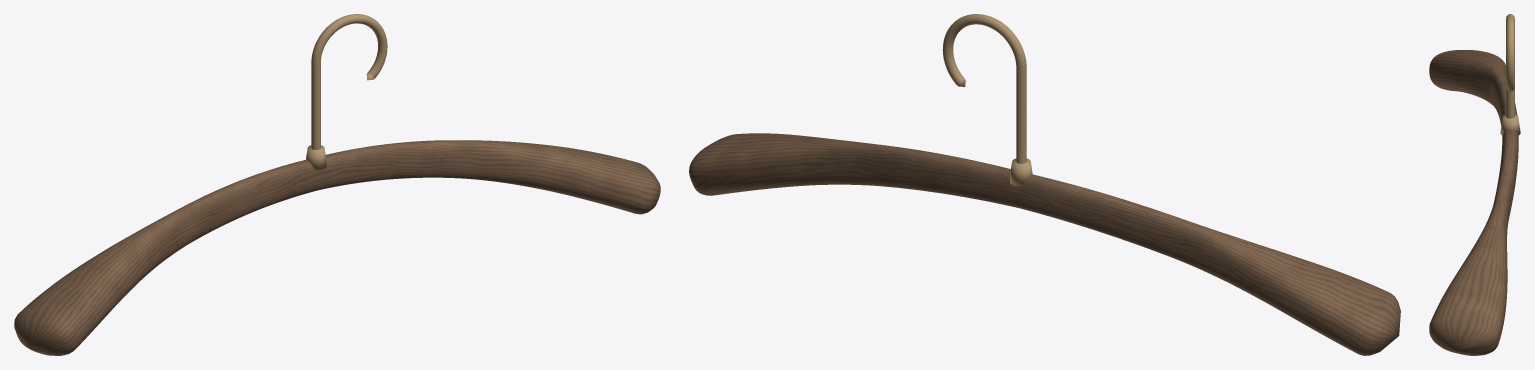
The model's file is hanger.glb.
The picture shows the model from 3 angles, left to right: view 1: azimuth 30°, elevation 25°; view 2: azimuth 150°, elevation 25°; view 3: azimuth 270°, elevation 25°; orthographic projection. The views are drawn at different scales.
Parts seen in each view (by area): view 1: VAELIS_Hanger_Body, VAELIS_Hanger_Hook; view 2: VAELIS_Hanger_Body, VAELIS_Hanger_Hook; view 3: VAELIS_Hanger_Body, VAELIS_Hanger_Hook, VAELIS_Hanger_Ferrule.
Part boxes in pixels (bbox=[...]): VAELIS_Hanger_Body: bbox=[14, 140, 660, 355]; VAELIS_Hanger_Hook: bbox=[311, 14, 387, 149]; VAELIS_Hanger_Body: bbox=[689, 133, 1400, 355]; VAELIS_Hanger_Hook: bbox=[942, 14, 1026, 163]; VAELIS_Hanger_Body: bbox=[1429, 50, 1518, 355]; VAELIS_Hanger_Hook: bbox=[1506, 14, 1514, 118]; VAELIS_Hanger_Ferrule: bbox=[1500, 114, 1520, 135].
Bounding box in the file's own units: 0.4453 × 0.161 × 0.061.
Materials: 2 (1 with a texture image).
